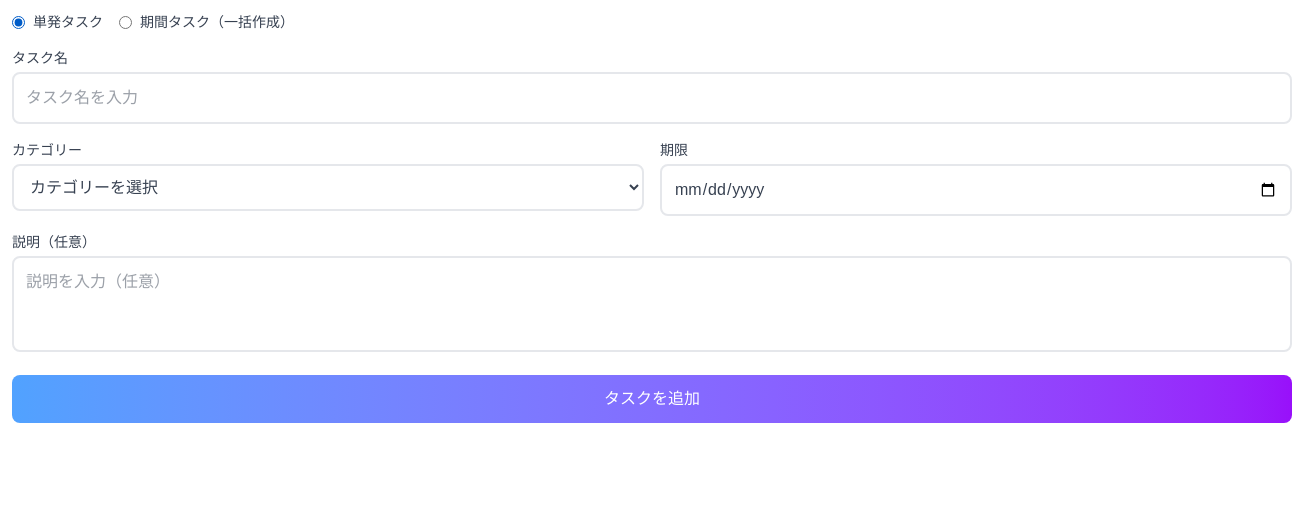
Test case: タスク作成機能 › 単発タスク作成 › 必須項目（タスク名）が入力されていない場合にエラーが表示されること
Click the button "タスクを追加". click: coordinates (652, 399)
box: [12, 375, 1292, 423]
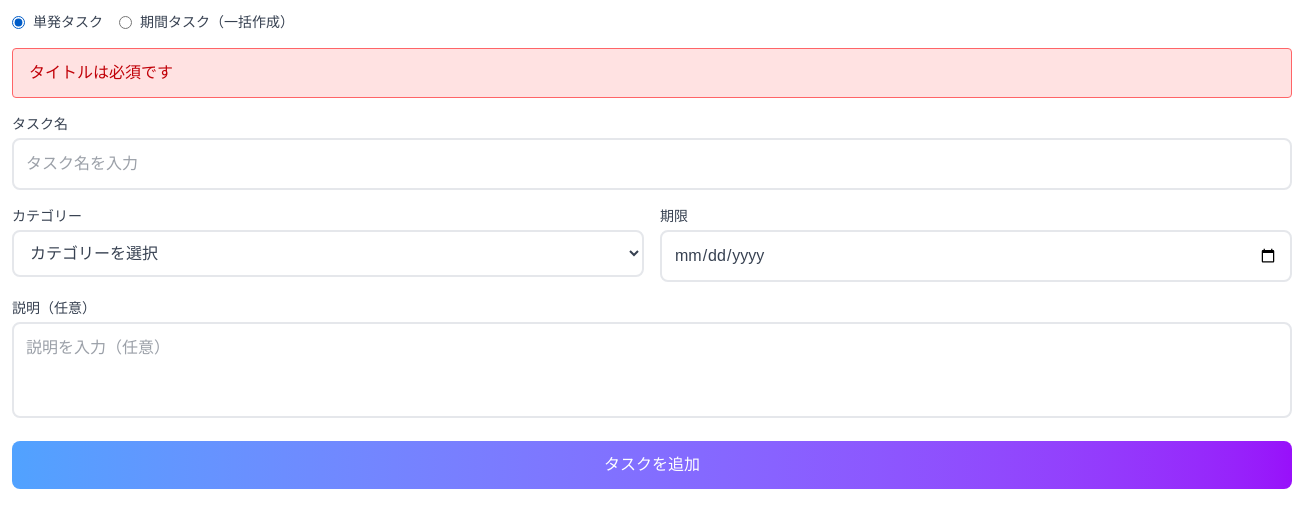
Expected: the message reads "タイトルは必須です", [29, 64, 173, 81]
